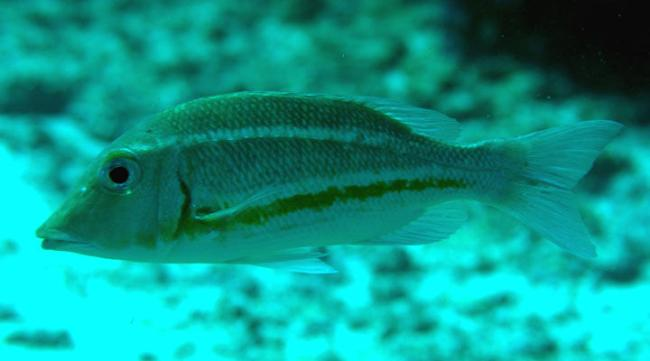fish: (35, 90, 626, 274)
